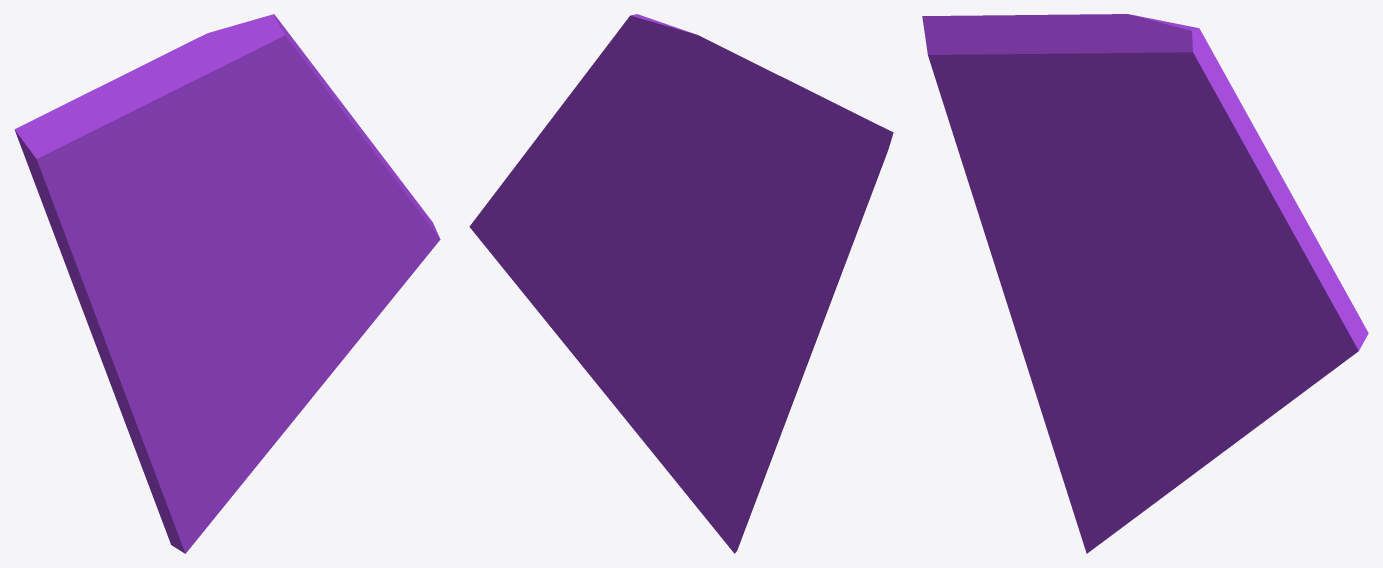
File: Glass_83_2_10_chunks.fbx
3 renders of one model, left to right at view 1: azimuth 30°, elevation 25°; view 2: azimuth 150°, elevation 25°; view 3: azimuth 330°, elevation 25°, orthographic. The views are drawn at different scales.
Parts seen in each view (by area): view 1: Glass_83_2_10_1, Glass_83_2_10_2, Glass_83_2_10_4, Glass_83_2_10_5, Glass_83_2_10_0, Glass_83_2_10_6; view 2: Glass_83_2_10_1, Glass_83_2_10_0, Glass_83_2_10_5, Glass_83_2_10_2, Glass_83_2_10_4, Glass_83_2_10_6, Glass_83_2_10_3; view 3: Glass_83_2_10_1, Glass_83_2_10_2, Glass_83_2_10_4, Glass_83_2_10_5, Glass_83_2_10_0, Glass_83_2_10_6.
Part boxes in pixels (x1=…): Glass_83_2_10_1: x1=14, y1=62, x2=213, y2=347; Glass_83_2_10_2: x1=149, y1=14, x2=368, y2=193; Glass_83_2_10_4: x1=214, y1=220, x2=401, y2=473; Glass_83_2_10_5: x1=97, y1=315, x2=249, y2=553; Glass_83_2_10_0: x1=249, y1=123, x2=440, y2=286; Glass_83_2_10_6: x1=124, y1=193, x2=292, y2=324; Glass_83_2_10_1: x1=696, y1=64, x2=893, y2=353; Glass_83_2_10_0: x1=469, y1=125, x2=701, y2=308; Glass_83_2_10_5: x1=665, y1=310, x2=817, y2=553; Glass_83_2_10_2: x1=547, y1=14, x2=756, y2=182; Glass_83_2_10_4: x1=536, y1=243, x2=697, y2=467; Glass_83_2_10_6: x1=644, y1=207, x2=776, y2=312; Glass_83_2_10_3: x1=648, y1=249, x2=748, y2=329; Glass_83_2_10_1: x1=922, y1=14, x2=1116, y2=284; Glass_83_2_10_2: x1=1063, y1=14, x2=1287, y2=214; Glass_83_2_10_4: x1=1117, y1=254, x2=1317, y2=502; Glass_83_2_10_5: x1=1001, y1=267, x2=1155, y2=553; Glass_83_2_10_0: x1=1154, y1=187, x2=1368, y2=381; Glass_83_2_10_6: x1=1021, y1=184, x2=1201, y2=323.
Size of the model in its own units: 776 by 904 by 27.2.
